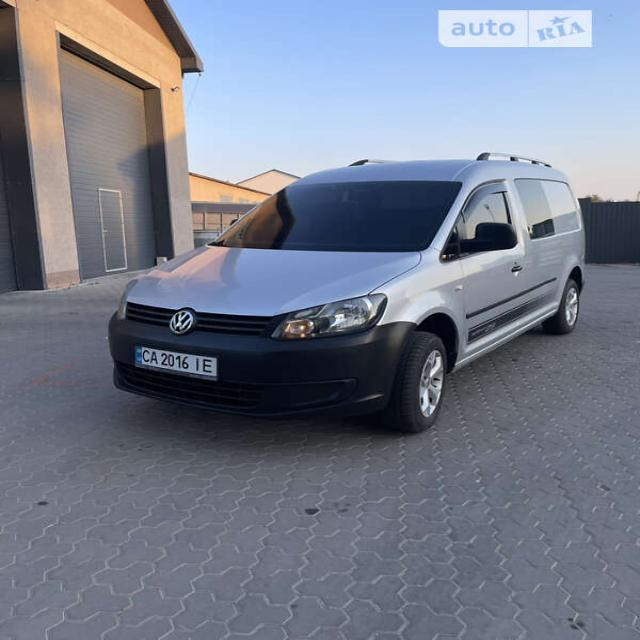plate: (130, 333, 227, 387)
